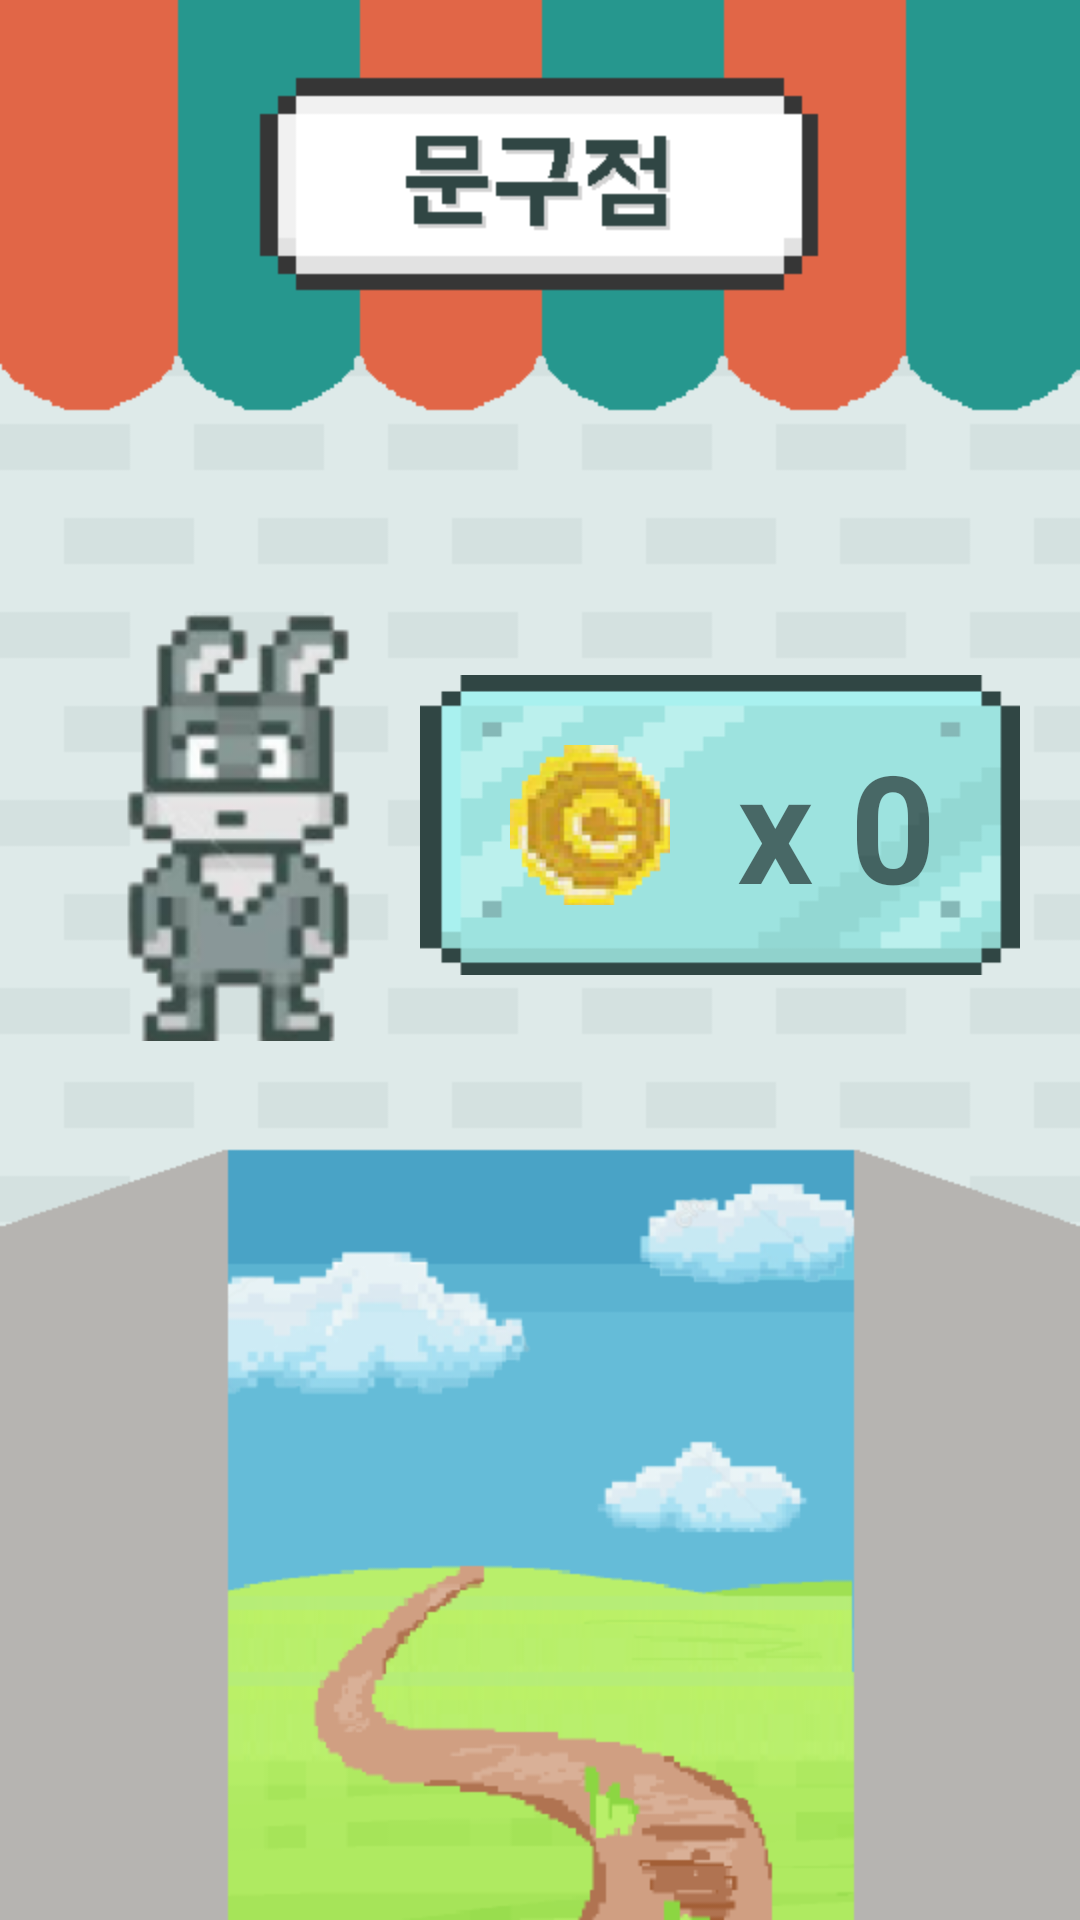

Named icons in this screenshot (1080×1920) and their bounding boxes, (x1, y1, x2, y2):
coin: (510, 706, 670, 905)
